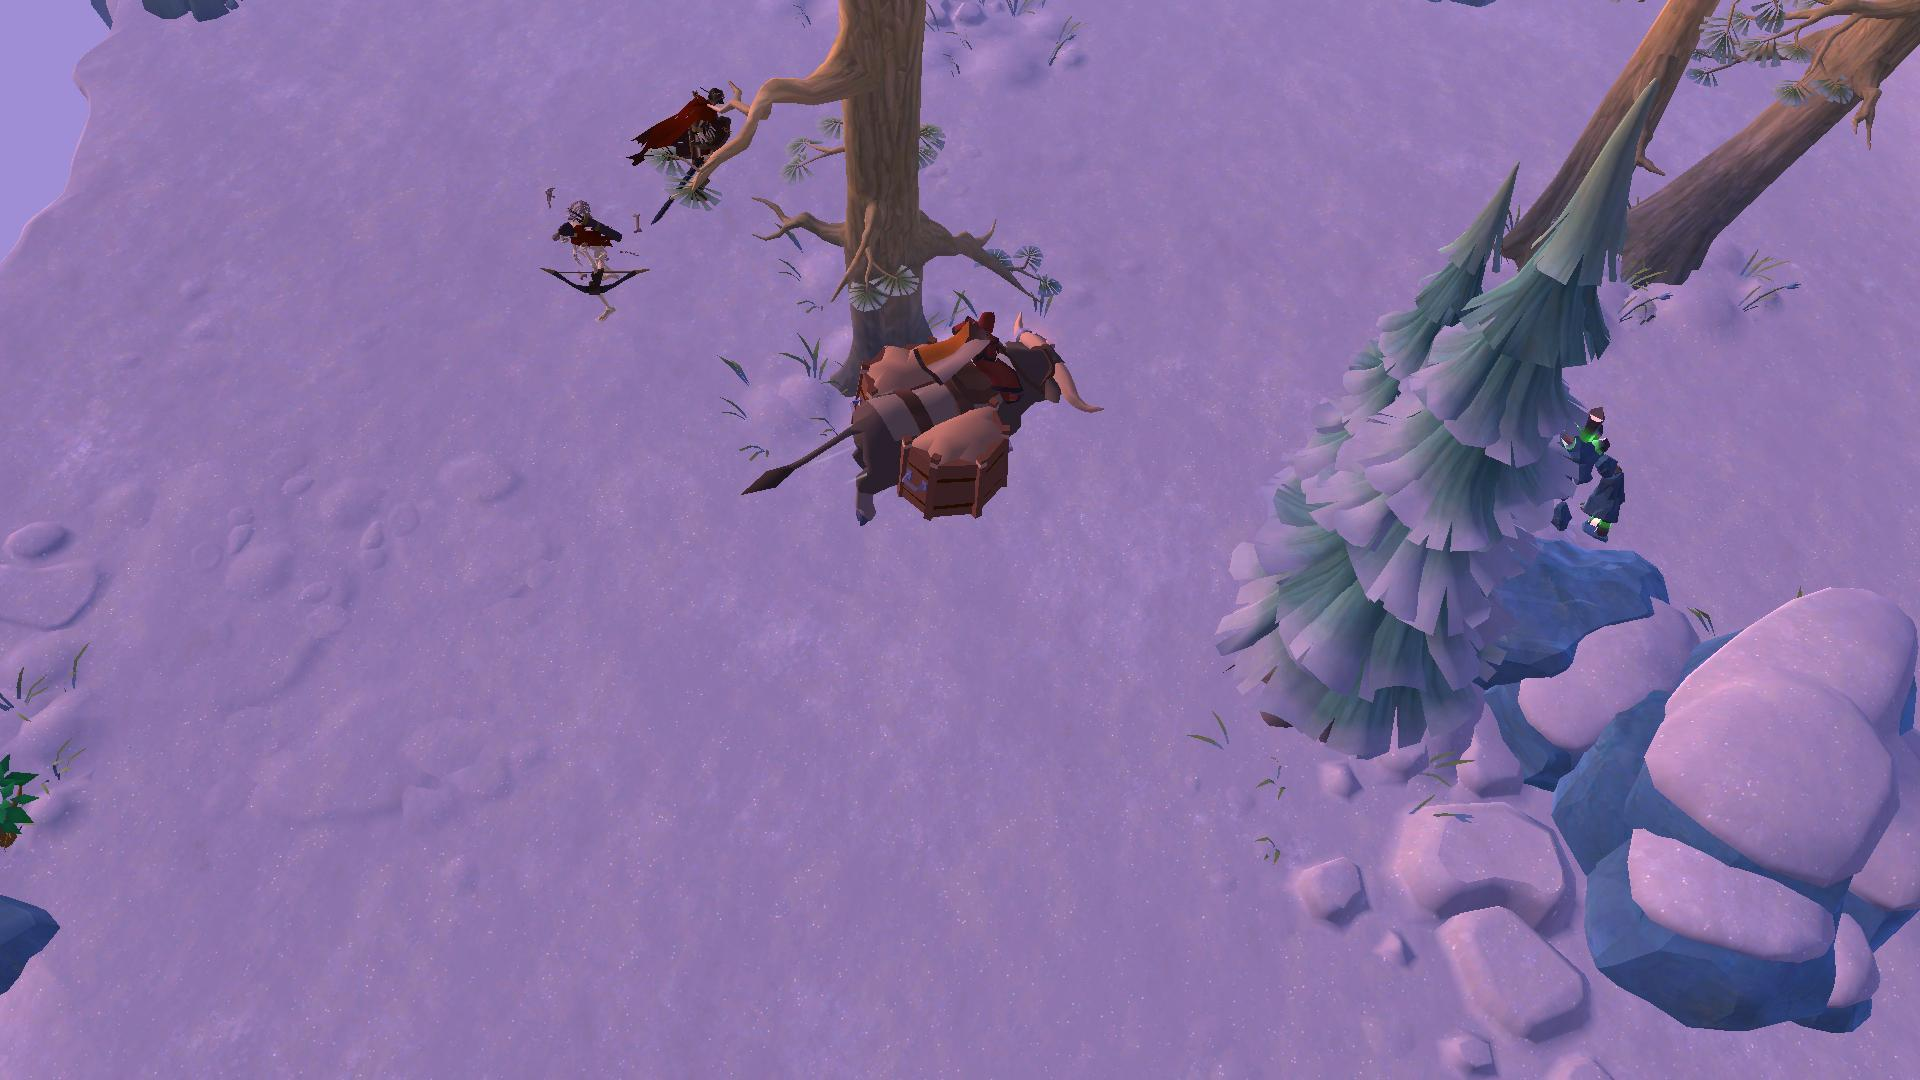enemy_factionUndead: (550, 199, 645, 313), (622, 91, 731, 190)
